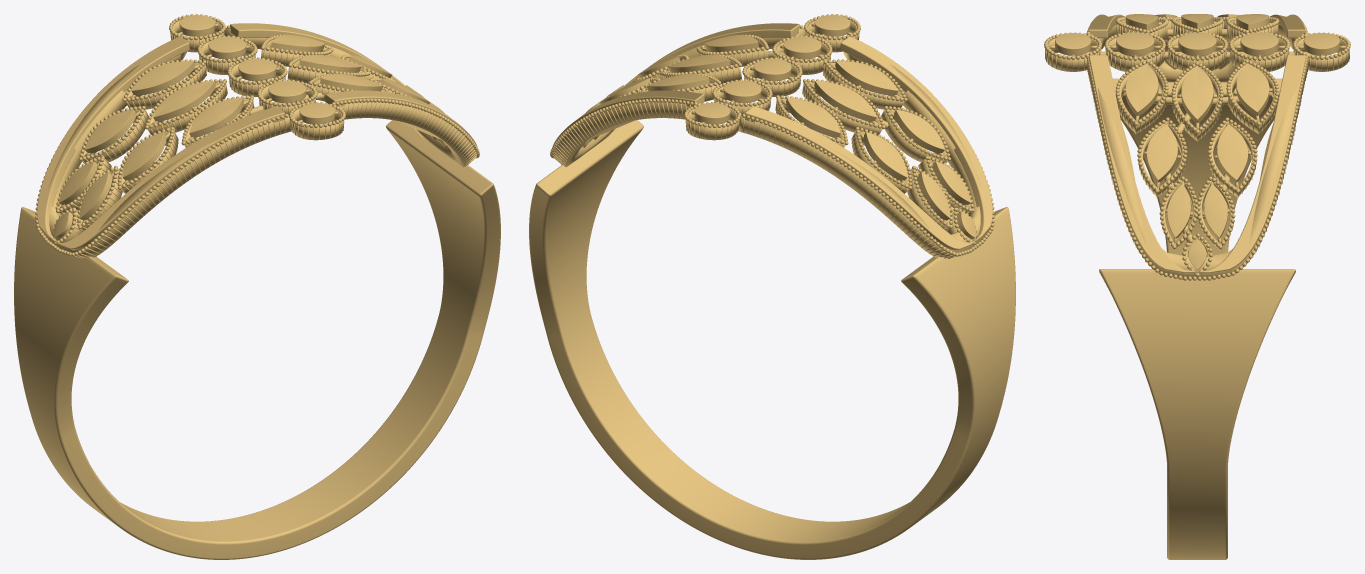
3 renders of one model, left to right at view 1: azimuth 30°, elevation 25°; view 2: azimuth 150°, elevation 25°; view 3: azimuth 270°, elevation 25°, orthographic. The views are drawn at different scales.
Parts seen in each view (by area): view 1: Complete curved comfort shank | reverse inferred, Fine milgrain | individually modeled rounded beads, Broad polished wing frame -1 | closed openwork gallery, Wing polished border -1 1, Wing polished border -1 -1, Broad polished wing frame 1 | closed openwork gallery, Wing polished border 1 1, Wing inner central leaf -1 | raised polished face, Wing leaf -1 0 1 | raised polished face, Wing polished border 1 -1, Wing leaf -1 0 -1 | raised polished face, Wing leaf -1 1 1 | raised polished face (+17 smaller); view 2: Complete curved comfort shank | reverse inferred, Fine milgrain | individually modeled rounded beads, Broad polished wing frame -1 | closed openwork gallery, Wing polished border -1 -1, Wing polished border -1 1, Broad polished wing frame 1 | closed openwork gallery, Wing polished border 1 -1, Wing inner central leaf -1 | raised polished face, Wing leaf -1 0 -1 | raised polished face, Wing polished border 1 1, Wing leaf -1 0 1 | raised polished face, Wing leaf -1 1 -1 | raised polished face (+17 smaller); view 3: Complete curved comfort shank | reverse inferred, Fine milgrain | individually modeled rounded beads, Broad polished wing frame 1 | closed openwork gallery, Wing polished border 1 -1, Wing polished border 1 1, Wing inner central leaf 1 | raised polished face, Wing leaf 1 1 1 | raised polished face, Wing leaf 1 1 -1 | raised polished face, Wing leaf 1 0 1 | raised polished face, Wing leaf 1 0 -1 | raised polished face, Wing leaf 1 2 -1 | raised polished face, Wing leaf 1 2 1 | raised polished face (+25 smaller).
Boxes of the visible parts, x1=… form: Complete curved comfort shank | reverse inferred: x1=14, y1=120, x2=500, y2=559; Fine milgrain | individually modeled rounded beads: x1=35, y1=14, x2=479, y2=256; Broad polished wing frame -1 | closed openwork gallery: x1=38, y1=39, x2=291, y2=258; Wing polished border -1 1: x1=37, y1=36, x2=189, y2=241; Wing polished border -1 -1: x1=53, y1=106, x2=284, y2=250; Broad polished wing frame 1 | closed openwork gallery: x1=224, y1=28, x2=476, y2=167; Wing polished border 1 1: x1=230, y1=23, x2=405, y2=86; Wing inner central leaf -1 | raised polished face: x1=153, y1=81, x2=215, y2=122; Wing leaf -1 0 1 | raised polished face: x1=131, y1=61, x2=194, y2=96; Wing polished border 1 -1: x1=325, y1=90, x2=477, y2=146; Wing leaf -1 0 -1 | raised polished face: x1=189, y1=97, x2=243, y2=137; Wing leaf -1 1 1 | raised polished face: x1=84, y1=109, x2=135, y2=153; Complete curved comfort shank | reverse inferred: x1=529, y1=120, x2=1015, y2=559; Fine milgrain | individually modeled rounded beads: x1=550, y1=14, x2=994, y2=256; Broad polished wing frame -1 | closed openwork gallery: x1=738, y1=38, x2=990, y2=258; Wing polished border -1 -1: x1=840, y1=36, x2=992, y2=240; Wing polished border -1 1: x1=745, y1=106, x2=976, y2=250; Broad polished wing frame 1 | closed openwork gallery: x1=553, y1=28, x2=805, y2=167; Wing polished border 1 -1: x1=624, y1=23, x2=799, y2=86; Wing inner central leaf -1 | raised polished face: x1=814, y1=81, x2=876, y2=122; Wing leaf -1 0 -1 | raised polished face: x1=835, y1=61, x2=898, y2=96; Wing polished border 1 1: x1=552, y1=90, x2=704, y2=146; Wing leaf -1 0 1 | raised polished face: x1=786, y1=97, x2=840, y2=137; Wing leaf -1 1 -1 | raised polished face: x1=894, y1=109, x2=945, y2=153; Complete curved comfort shank | reverse inferred: x1=1099, y1=78, x2=1295, y2=559; Fine milgrain | individually modeled rounded beads: x1=1044, y1=17, x2=1350, y2=280; Broad polished wing frame 1 | closed openwork gallery: x1=1097, y1=88, x2=1297, y2=279; Wing polished border 1 -1: x1=1088, y1=55, x2=1203, y2=273; Wing polished border 1 1: x1=1191, y1=55, x2=1306, y2=273; Wing inner central leaf 1 | raised polished face: x1=1181, y1=66, x2=1213, y2=122; Wing leaf 1 1 1 | raised polished face: x1=1217, y1=124, x2=1248, y2=182; Wing leaf 1 1 -1 | raised polished face: x1=1147, y1=124, x2=1177, y2=182; Wing leaf 1 0 1 | raised polished face: x1=1236, y1=63, x2=1269, y2=115; Wing leaf 1 0 -1 | raised polished face: x1=1125, y1=63, x2=1158, y2=115; Wing leaf 1 2 -1 | raised polished face: x1=1167, y1=183, x2=1190, y2=238; Wing leaf 1 2 1 | raised polished face: x1=1204, y1=183, x2=1227, y2=238.
Bounding box in the file's own units: 0.0195 × 0.0203 × 0.0114.
